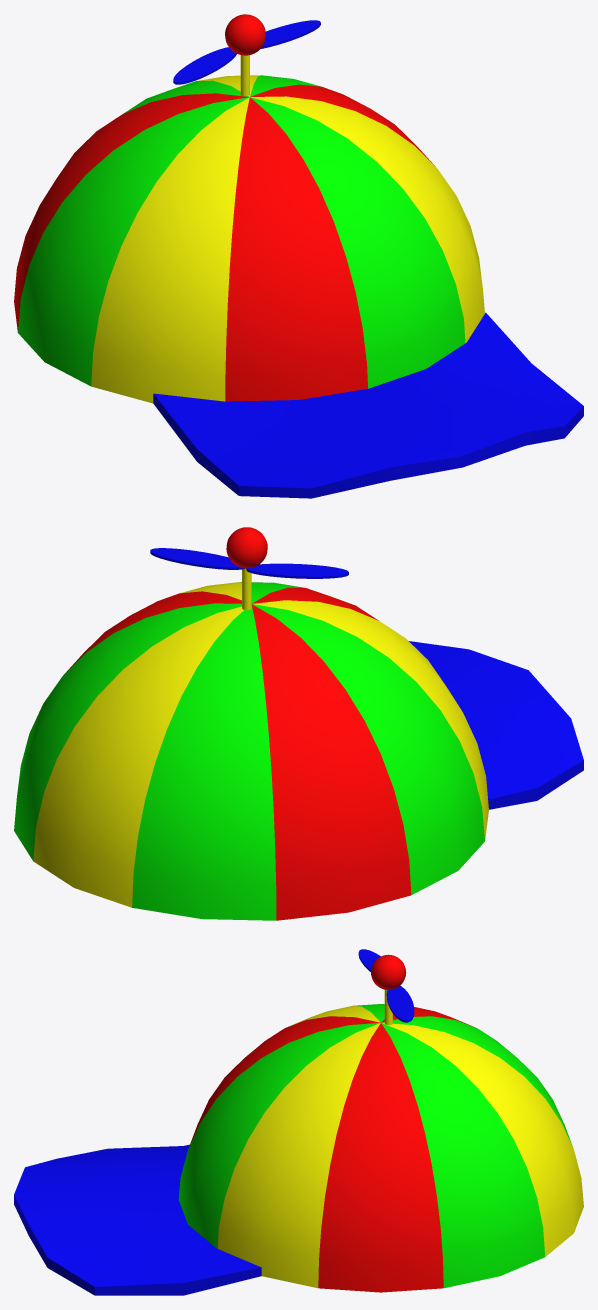
The model's file is propellerhat.fbx.
3 views of the same model, one above another, from view 1: azimuth 30°, elevation 25°; view 2: azimuth 150°, elevation 25°; view 3: azimuth 270°, elevation 25° (orthographic). The views are drawn at different scales.
Visible parts, largest first — view 1: pSphere3; view 2: pSphere3; view 3: pSphere3.
Boxes of the visible parts, <box> form: pSphere3: <box>14,14,583,498</box>; pSphere3: <box>14,527,583,920</box>; pSphere3: <box>14,949,583,1295</box>.
Size of the model in its own units: 37.82 by 27.98 by 53.1.
